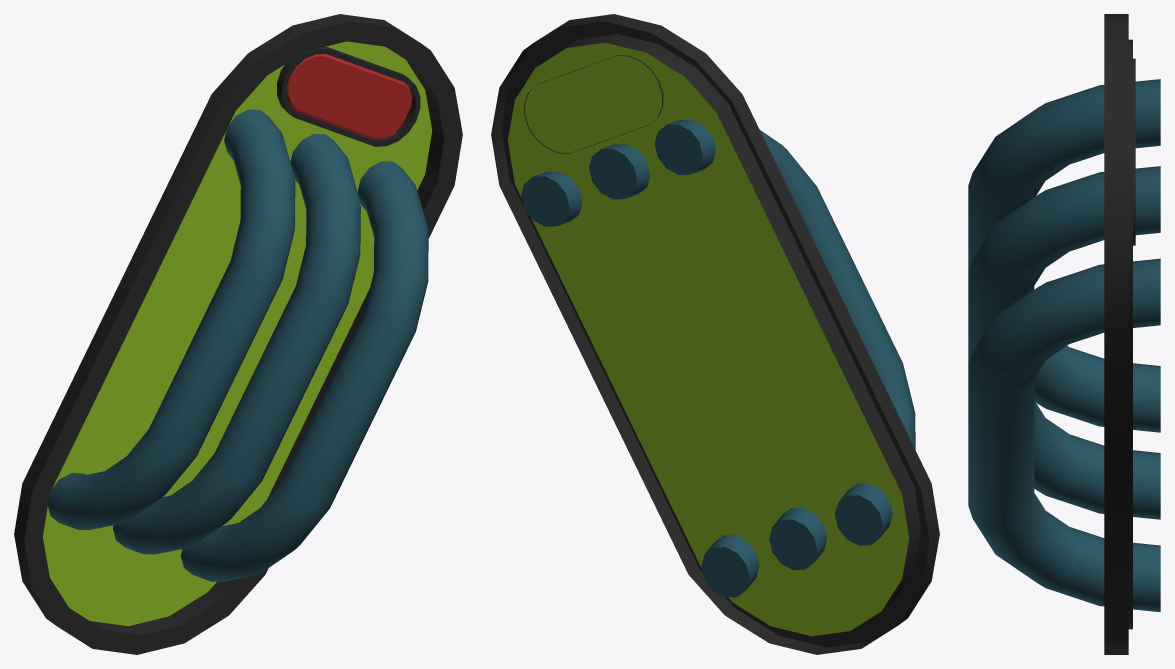
The model's file is pipe_detail.fbx.
3 renders of one model, left to right at view 1: azimuth 30°, elevation 25°; view 2: azimuth 150°, elevation 25°; view 3: azimuth 270°, elevation 25°, orthographic. The views are drawn at different scales.
Visible parts, largest first — view 1: Cylinder016; view 2: Cylinder016; view 3: Cylinder016.
Part boxes in pixels (x1,y1,x2,y2): Cylinder016: [14, 14, 462, 654]; Cylinder016: [491, 14, 939, 654]; Cylinder016: [968, 14, 1160, 654].
Bounding box in the file's own units: 0.5277 × 0.6684 × 0.1669.
